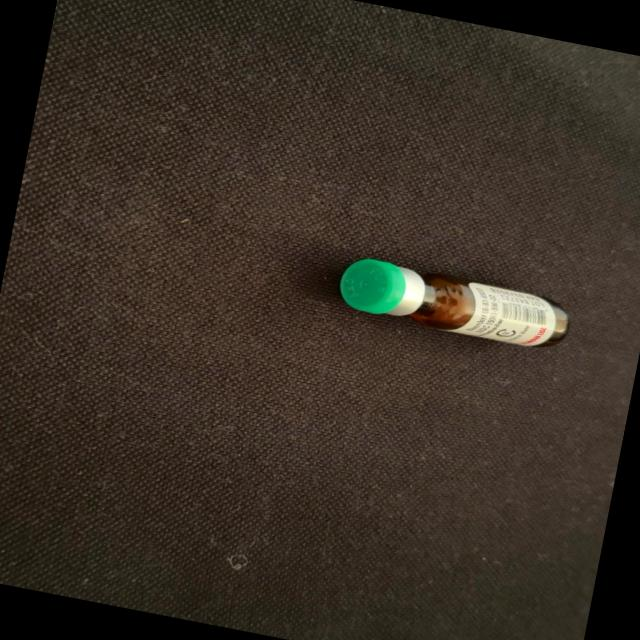midazolm: (337, 255, 570, 353)
